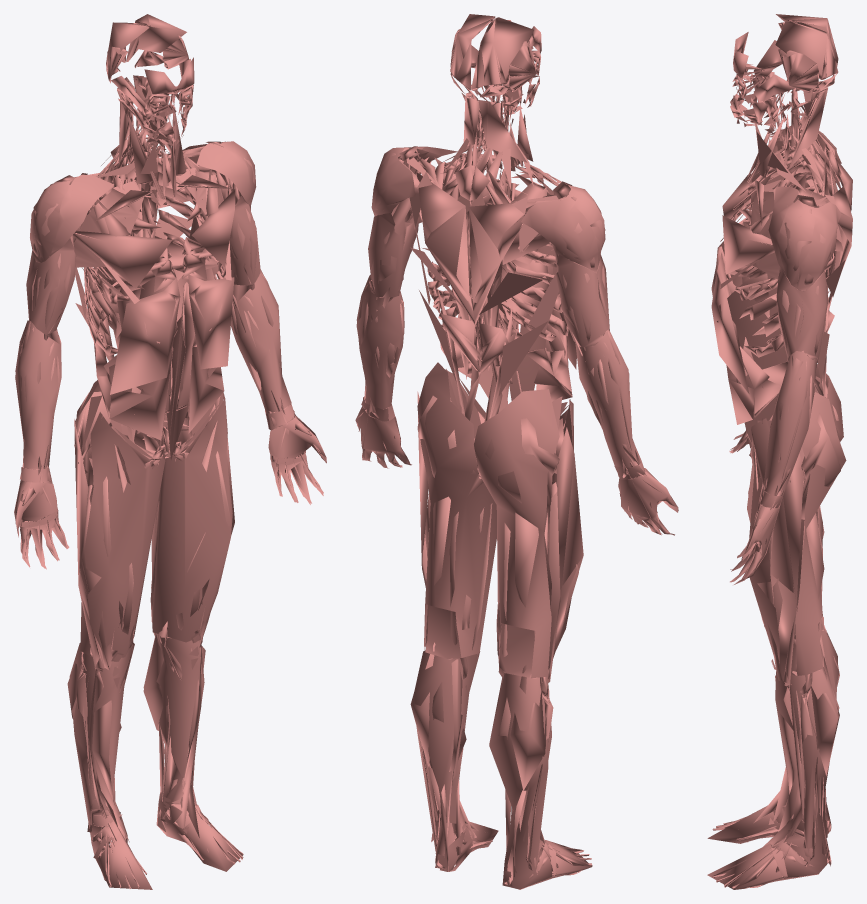
The model's file is lod0-muscle.glb.
The picture shows the model from 3 angles, left to right: view 1: azimuth 30°, elevation 25°; view 2: azimuth 150°, elevation 25°; view 3: azimuth 270°, elevation 25°; orthographic projection. The views are drawn at different scales.
Visible parts, largest first — view 1: muscle::torso, muscle::leg-right, muscle::leg-left, muscle::arm-right, muscle::arm-left, muscle::head; view 2: muscle::leg-right, muscle::torso, muscle::leg-left, muscle::arm-right, muscle::arm-left, muscle::head; view 3: muscle::leg-left, muscle::torso, muscle::arm-left, muscle::head, muscle::leg-right, muscle::arm-right.
Part boxes in pixels (<box>): muscle::torso: <box>72,127,235,486</box>; muscle::leg-right: <box>67,380,165,889</box>; muscle::leg-left: <box>131,392,243,871</box>; muscle::arm-right: <box>14,174,113,569</box>; muscle::arm-left: <box>182,141,326,504</box>; muscle::head: <box>101,14,194,199</box>; muscle::leg-right: <box>474,389,592,889</box>; muscle::torso: <box>398,136,576,456</box>; muscle::leg-left: <box>410,362,498,871</box>; muscle::arm-right: <box>521,172,678,535</box>; muscle::arm-left: <box>355,146,457,468</box>; muscle::head: <box>443,14,541,202</box>; muscle::leg-left: <box>707,392,846,889</box>; muscle::torso: <box>711,126,852,462</box>; muscle::arm-left: <box>730,186,841,584</box>; muscle::head: <box>730,14,838,184</box>; muscle::leg-right: <box>707,364,843,843</box>; muscle::arm-right: <box>729,126,841,453</box>.
Size of the model in its own units: 0.665 by 1.7 by 0.2684.
